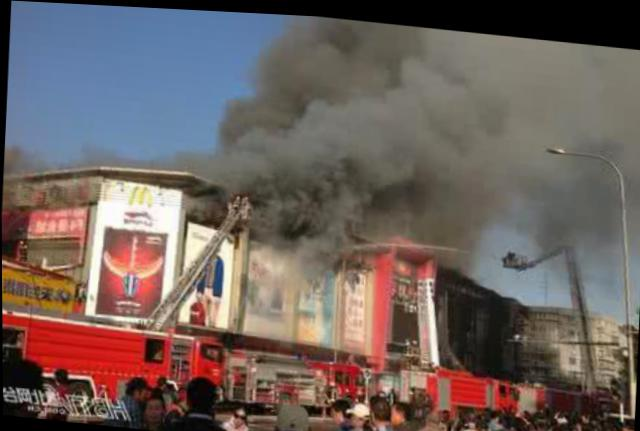smoke: (315, 16, 488, 238), (474, 32, 639, 254), (202, 12, 327, 237)
